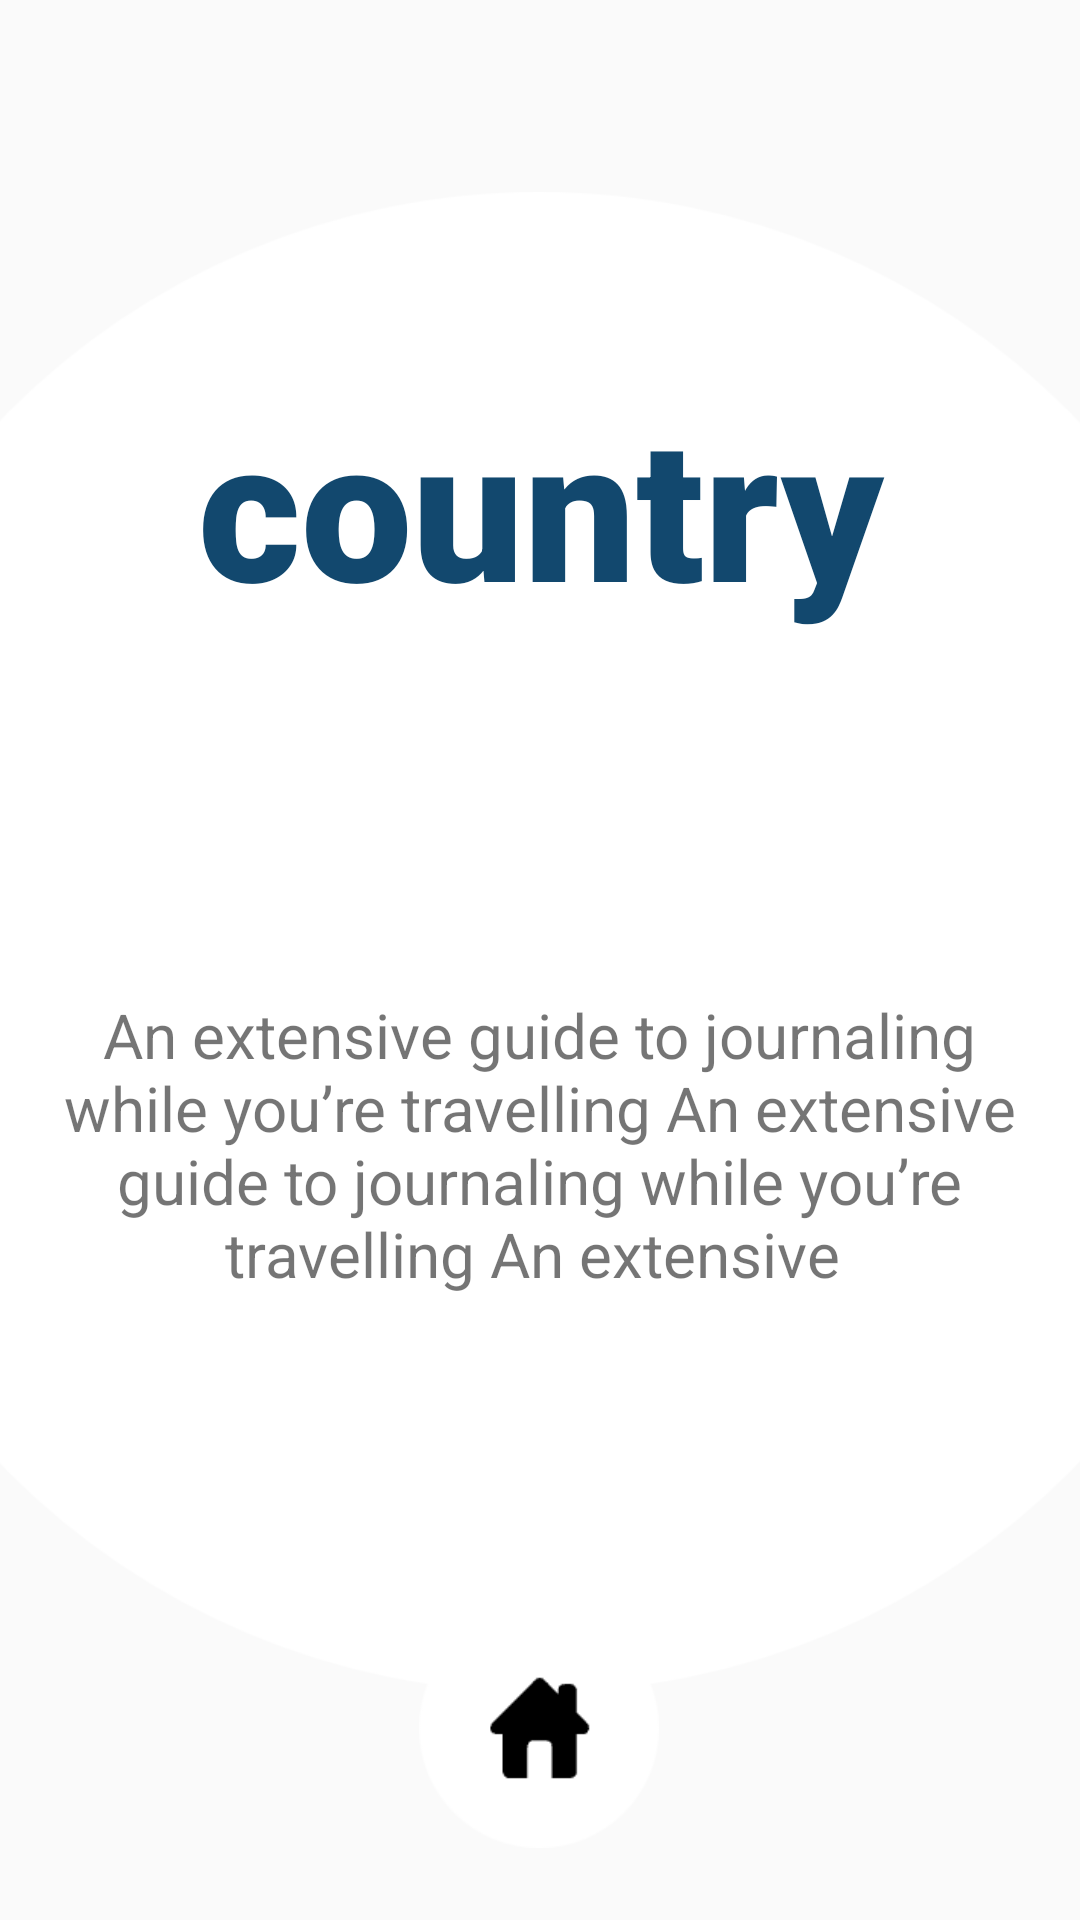

Icon bounding boxes for this 1080 x 1920 phone screenshot, format (x1=x1, y1=y1, x2=x2, y2=y2):
home: (x1=490, y1=1677, x2=590, y2=1779)
